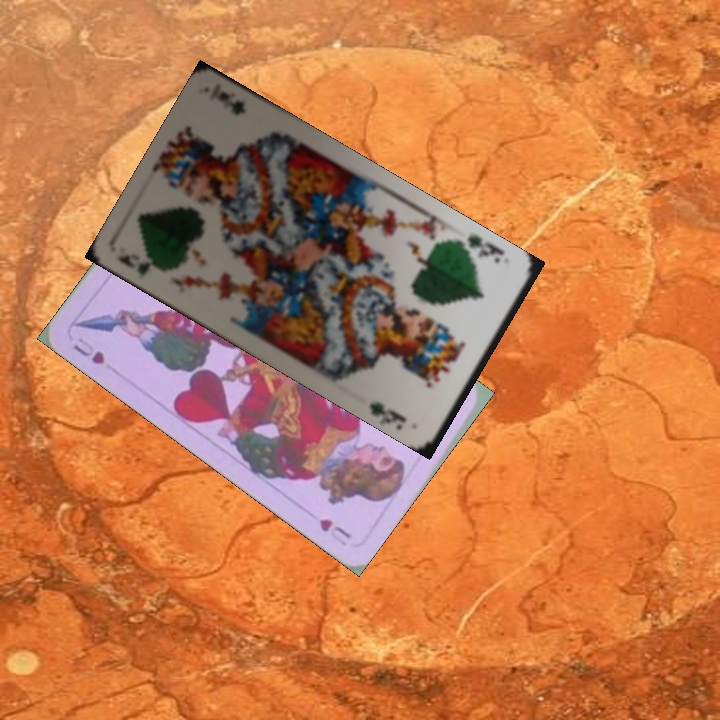GK: (457, 230, 507, 266), (113, 251, 173, 281)
HU: (69, 333, 108, 367)
